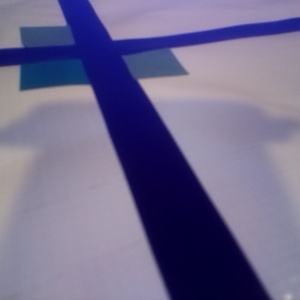bottom_left: (20, 47, 122, 90)
bottom_right: (87, 41, 188, 79)
top_left: (19, 26, 101, 59)
